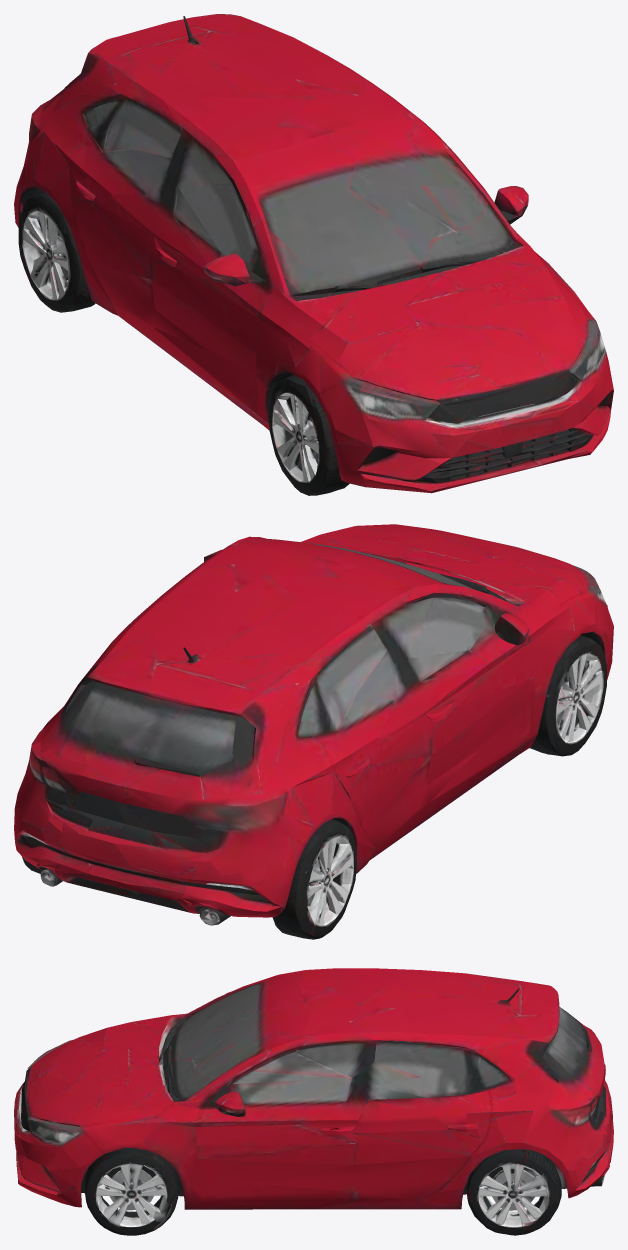
The model's file is car_hatchback.glb.
The picture shows the model from 3 angles, top to bottom: view 1: azimuth 30°, elevation 25°; view 2: azimuth 150°, elevation 25°; view 3: azimuth 270°, elevation 25°; orthographic projection. The views are drawn at different scales.
Visible parts, largest first — view 1: Mesh_0; view 2: Mesh_0; view 3: Mesh_0.
Part boxes in pixels (x1,y1,x2,y2): Mesh_0: (14, 14, 613, 495); Mesh_0: (14, 524, 613, 939); Mesh_0: (14, 968, 613, 1235).
Size of the model in its own units: 1.88 by 1.45 by 4.
1 material, 1 textured.
